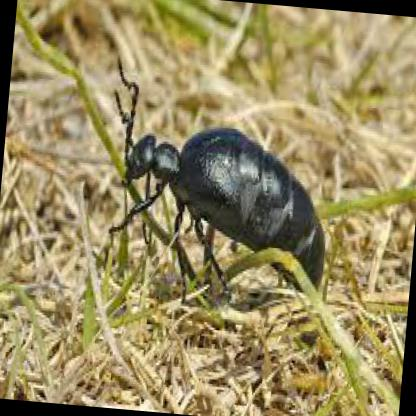blister beetle: (113, 81, 326, 307)
